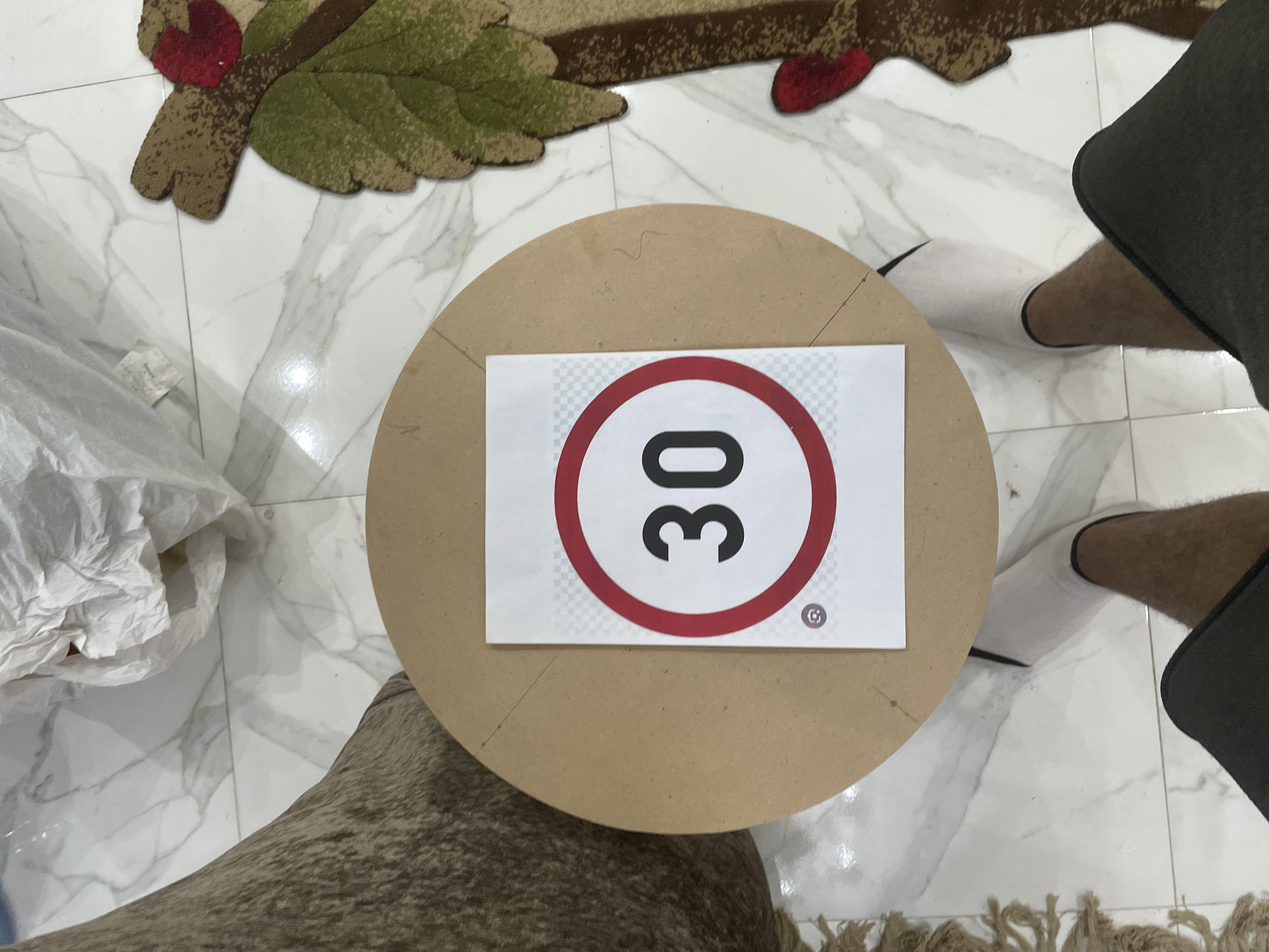30-speed: (412, 409, 802, 634)
